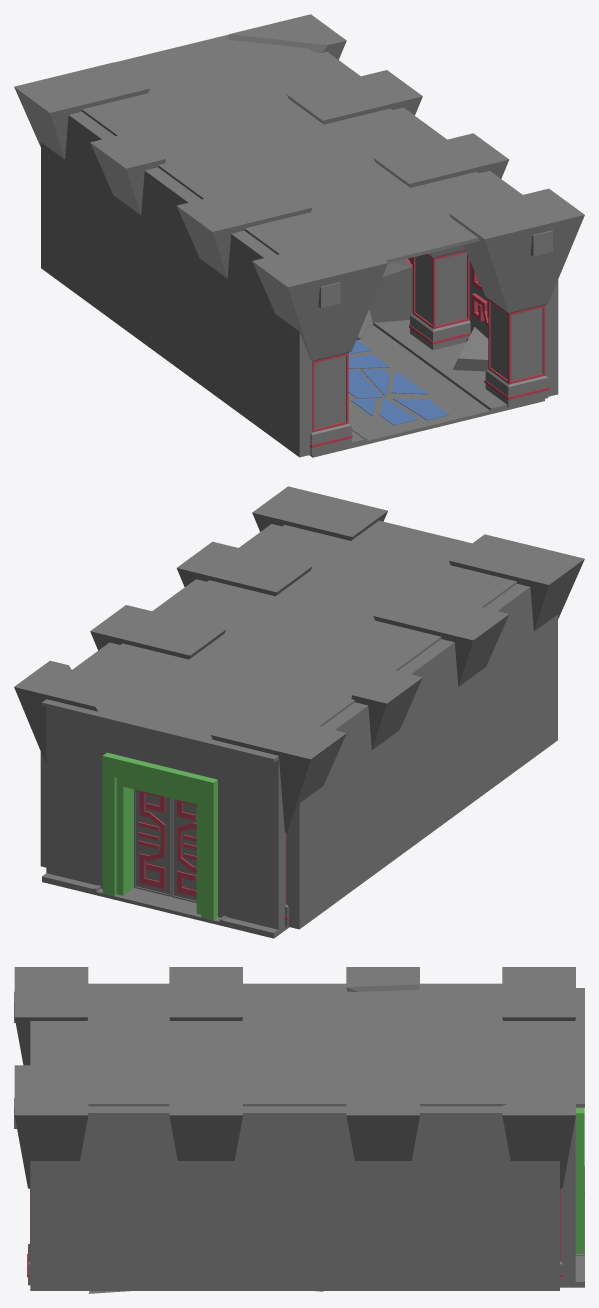
The model's file is Couloir.FBX.
The picture shows the model from 3 angles, top to bottom: view 1: azimuth 30°, elevation 25°; view 2: azimuth 150°, elevation 25°; view 3: azimuth 270°, elevation 25°; orthographic projection. The views are drawn at different scales.
Parts seen in each view (by area): view 1: Plafond, Box005, PilierUV003, PilierUV, PilierUV004, Sol, PilierUV002, PilierUV001, PilierUV005, Box006, Pilier006, Box022 (+5 smaller); view 2: Plafond, Box005, Box008, PilierUV002, Box010, PilierUV, PilierUV001, PilierUV003, PilierUV004, PilierUV005, Box011, Pilier001 (+7 smaller); view 3: Box006, Plafond, PilierUV003, PilierUV004, PilierUV005, Pilier001, PilierUV, PilierUV001, PilierUV002, Box008, Pilier006, Box010 (+1 smaller).
Boxes of the visible parts, box(x1,y1,x2,y2) form: Plafond: box(82, 34, 511, 263); Box005: box(41, 111, 312, 457); PilierUV003: box(449, 188, 584, 407); PilierUV: box(252, 236, 387, 455); PilierUV004: box(373, 133, 509, 350); Sol: box(309, 325, 544, 457); PilierUV002: box(14, 62, 149, 159); PilierUV001: box(177, 181, 312, 278); PilierUV005: box(287, 70, 422, 124); Box006: box(314, 52, 558, 396); Pilier006: box(90, 134, 165, 214); Box022: box(373, 320, 507, 410); Plafond: box(42, 520, 516, 762); Box005: box(286, 583, 557, 929); Box008: box(46, 712, 285, 931); PilierUV002: box(211, 708, 346, 927); Box010: box(102, 752, 217, 920); PilierUV: box(449, 534, 584, 631); PilierUV001: box(373, 589, 509, 686); PilierUV003: box(252, 486, 387, 540); PilierUV004: box(176, 541, 312, 596); PilierUV005: box(90, 605, 225, 659); Box011: box(116, 778, 201, 914); Pilier001: box(14, 660, 97, 763); Box006: box(30, 1106, 559, 1290); Plafond: box(30, 988, 584, 1107); PilierUV003: box(14, 1065, 88, 1285); PilierUV004: box(169, 1065, 242, 1160); PilierUV005: box(346, 1065, 419, 1160); Pilier001: box(502, 1075, 575, 1285); PilierUV: box(14, 967, 88, 1065); PilierUV001: box(169, 967, 242, 1020); PilierUV002: box(502, 967, 575, 1020); Box008: box(560, 1118, 575, 1284); Pilier006: box(346, 967, 419, 991); Box010: box(575, 1107, 584, 1253).
Size of the model in its own units: 1762 by 1097 by 2866.
Materials: 16 (4 with a texture image).
